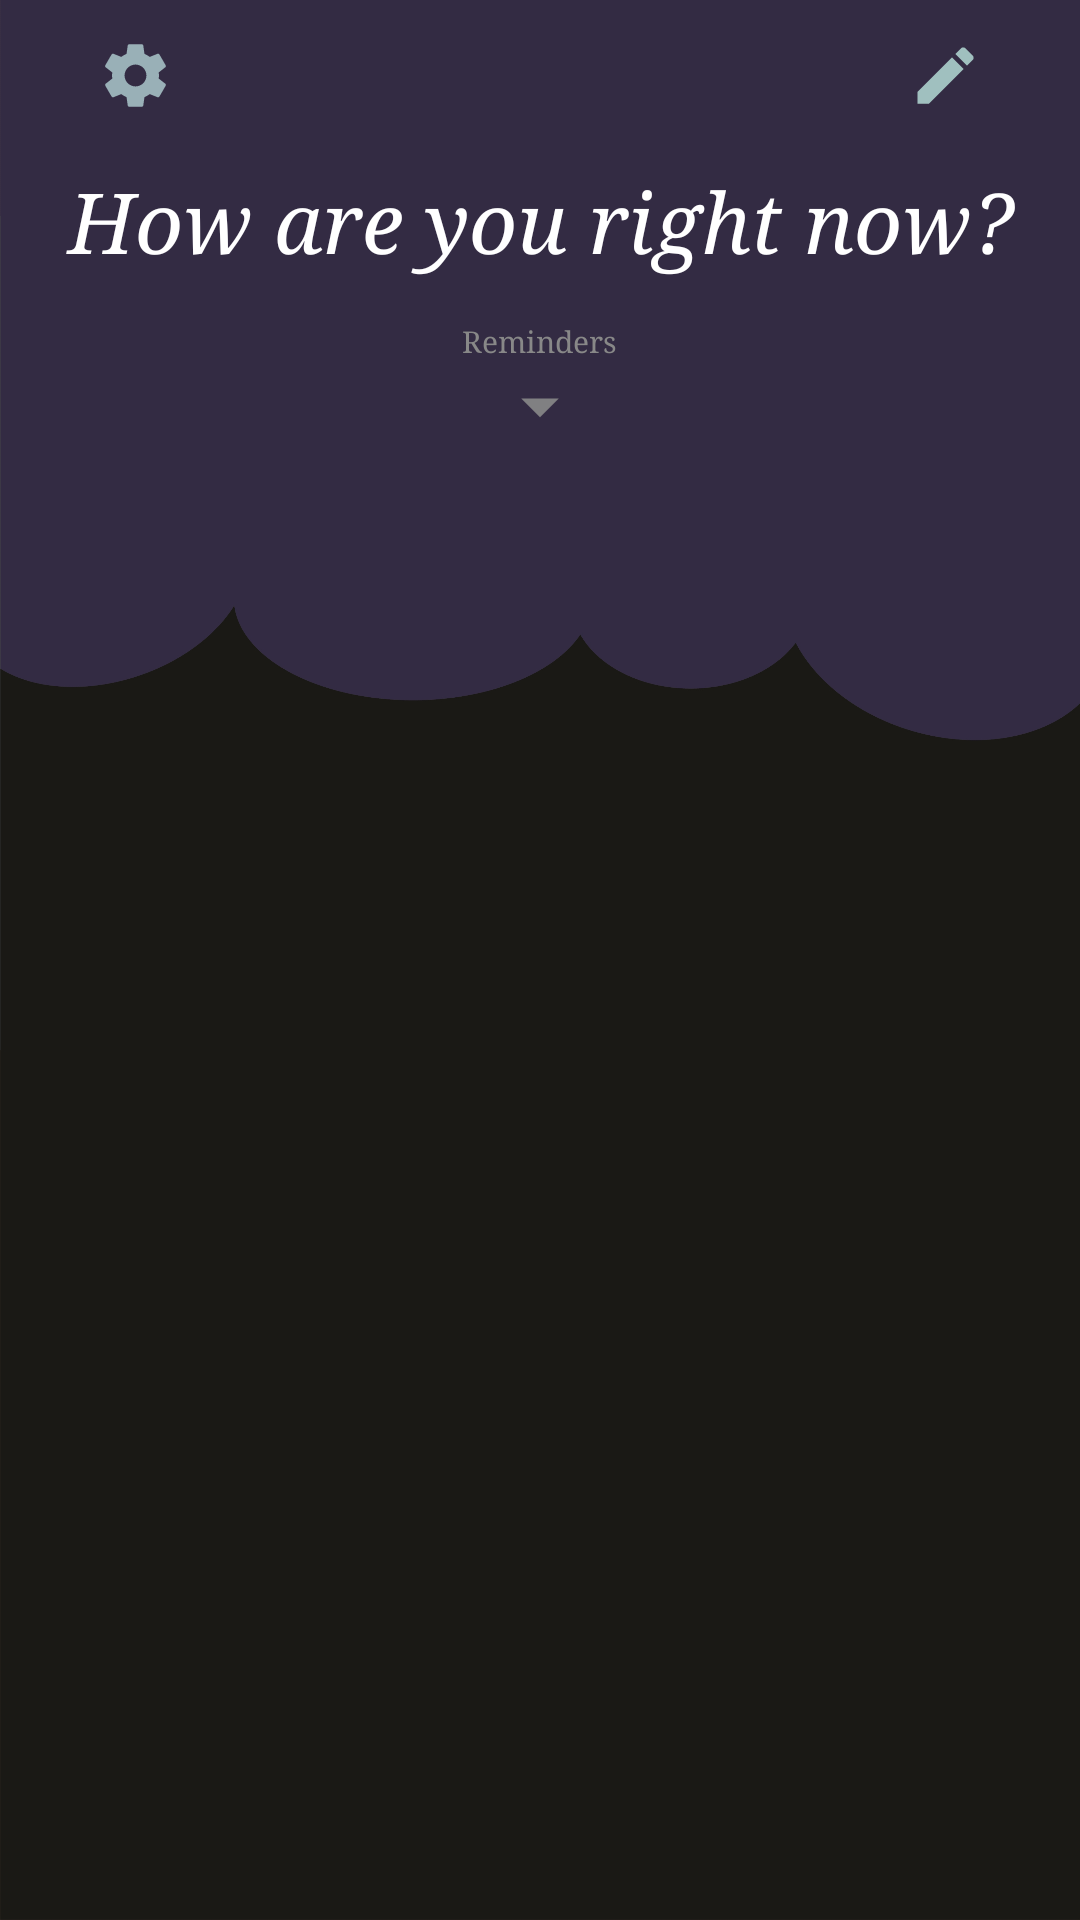

Where icons sit on this 1080*1920 app screen, as box=[x1, y1, x2, y2]:
down arrow: box=[522, 398, 558, 417]
quick memo: box=[917, 47, 974, 104]
settings: box=[105, 44, 166, 107]
